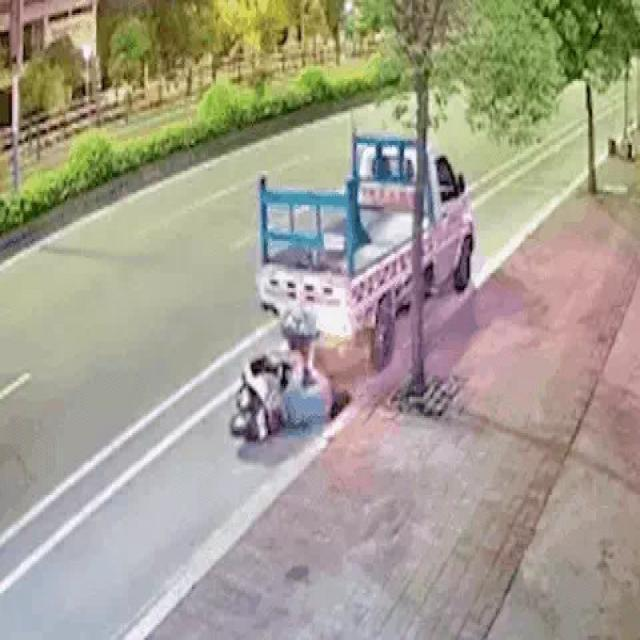multiple_accident: (224, 122, 480, 463)
